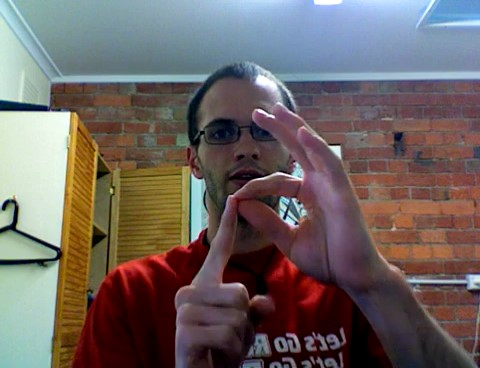P: (166, 99, 383, 368)
